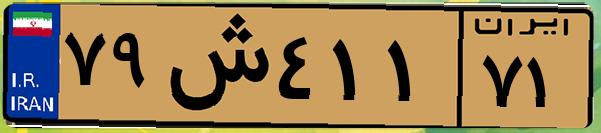1: (385, 28, 445, 110), (330, 28, 385, 110), (525, 38, 570, 115)
4: (270, 28, 330, 110)
7: (57, 26, 110, 100), (475, 38, 525, 113)
9: (110, 28, 158, 98)
ش: (158, 12, 270, 120)
